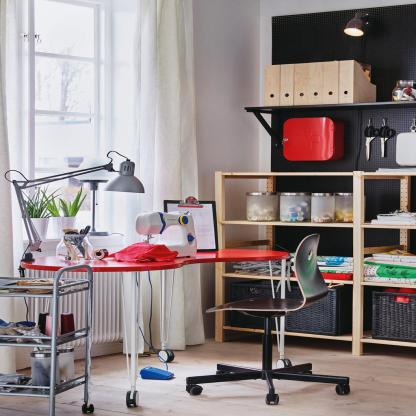Chair: (182, 231, 353, 406)
